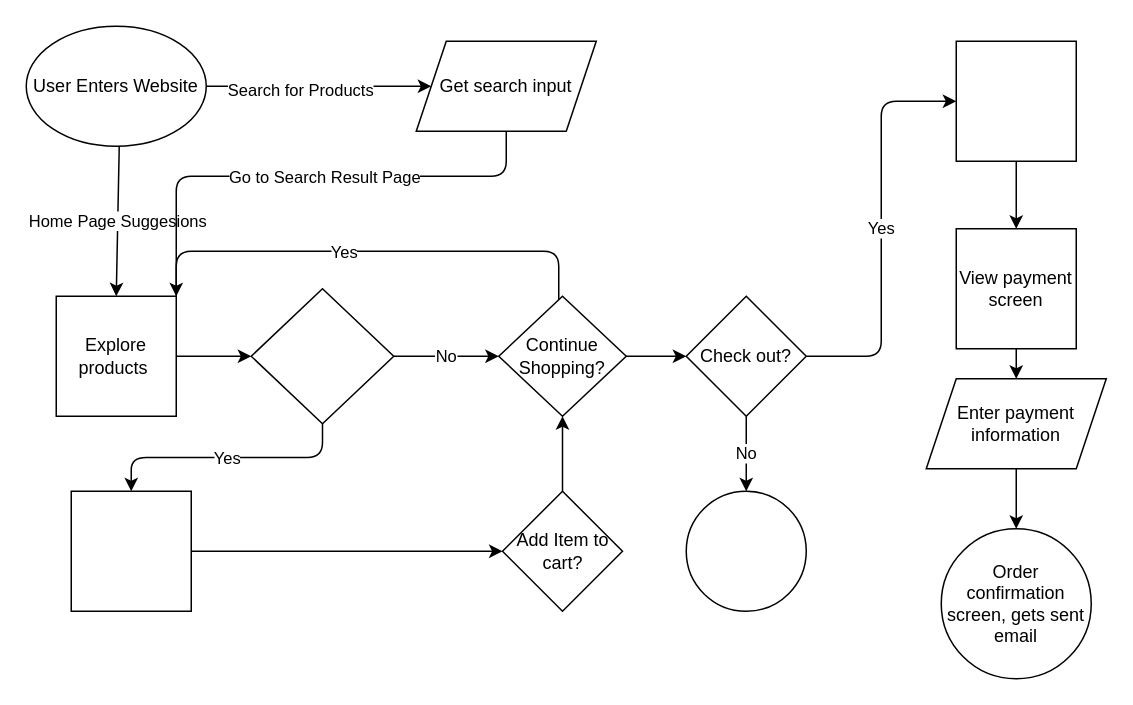
This 1133x705 diagram has some shape labels left out. Here are the shapes that lost their labels. From the top down, the centre of each, then its label:
At (x=1015, y=100): "View Cart screen".
At (x=322, y=355): "View specific product?".
At (x=130, y=550): "Open Product Page".
At (x=745, y=550): "Leave Website".
